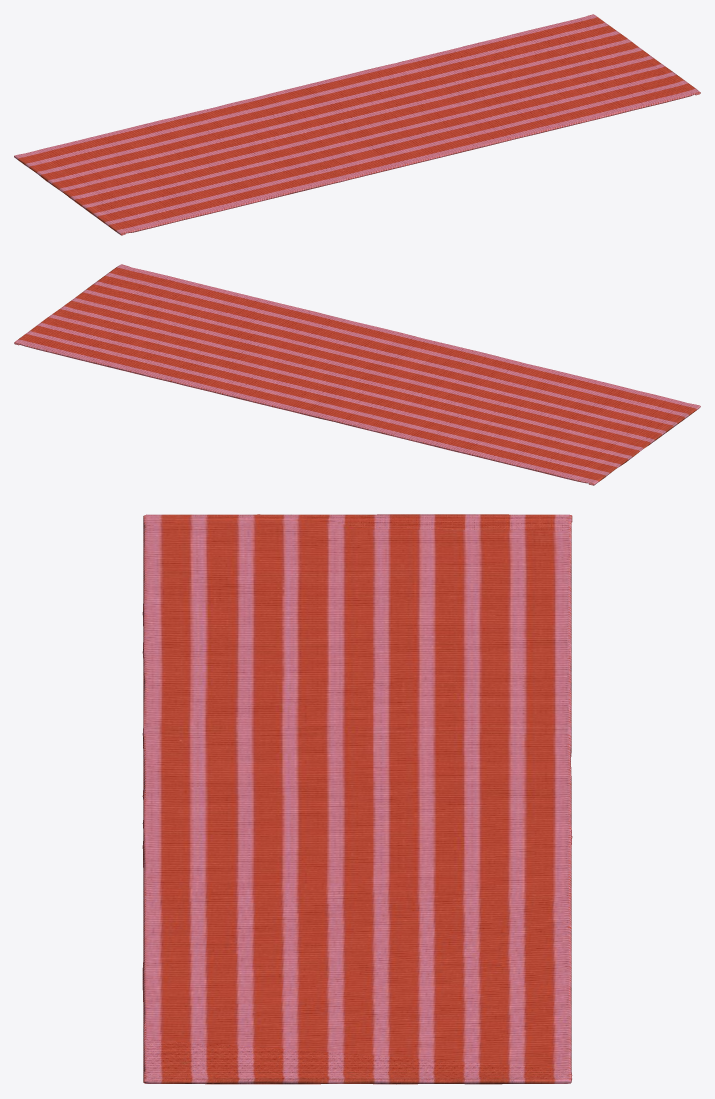
The model's file is vaegskylt_rug_flatwoven_pink_orange.glb.
3 renders of one model, top to bottom at view 1: azimuth 30°, elevation 25°; view 2: azimuth 150°, elevation 25°; view 3: azimuth 270°, elevation 25°, orthographic. The views are drawn at different scales.
Visible parts, largest first — view 1: ASY_ART_20587009_S01_NV01; view 2: ASY_ART_20587009_S01_NV01; view 3: ASY_ART_20587009_S01_NV01.
Part boxes in pixels (x1,y1,x2,y2): ASY_ART_20587009_S01_NV01: (14, 14, 700, 235); ASY_ART_20587009_S01_NV01: (14, 264, 700, 485); ASY_ART_20587009_S01_NV01: (142, 514, 572, 1084).
Size of the model in its own units: 2.5 by 0.00977 by 0.8002.
1 material, 1 textured.
